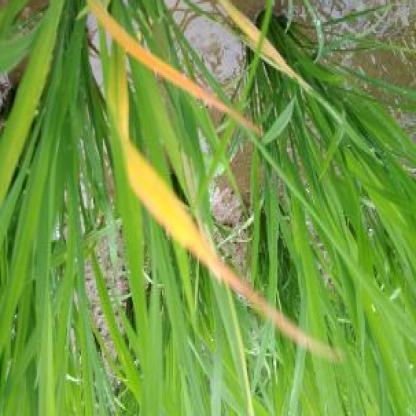Tungro: (122, 151, 331, 360)
